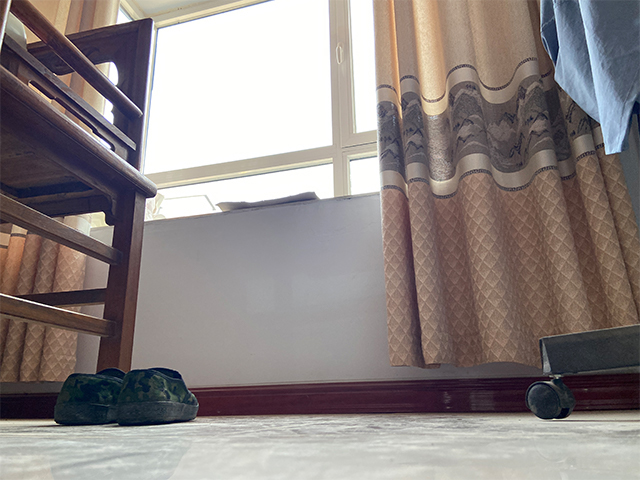curtain: (371, 1, 640, 370), (1, 1, 119, 383)
stool: (1, 1, 158, 401)
